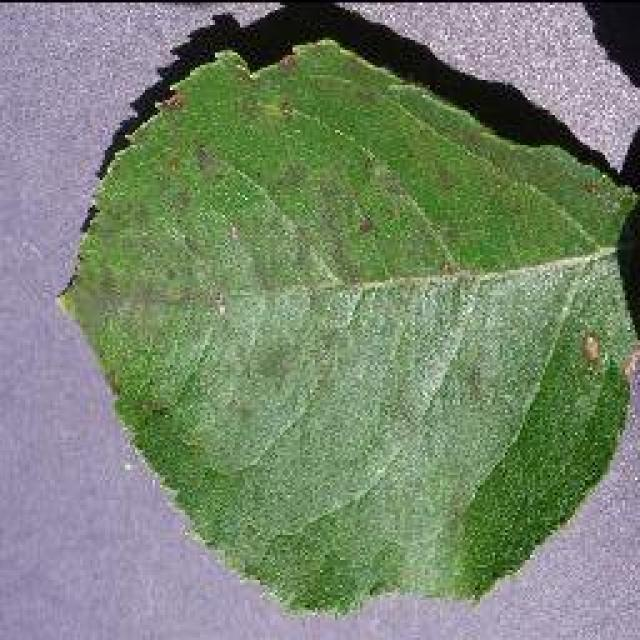apple scab disease: (52, 32, 638, 620)
